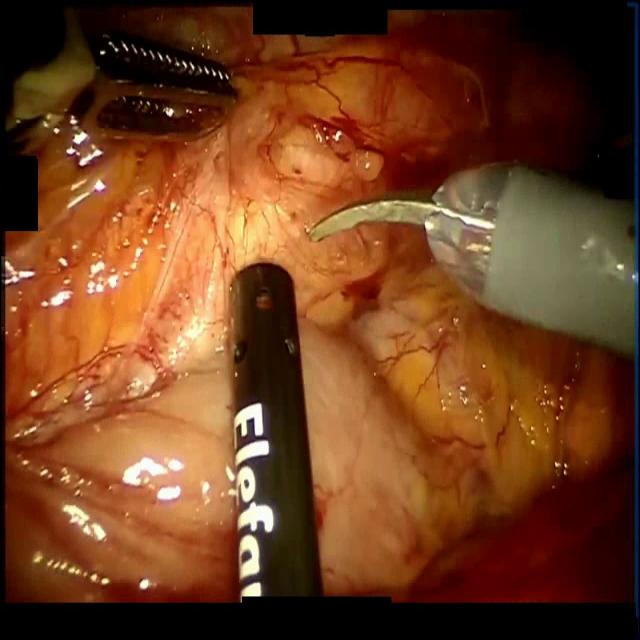surgical-area: (0, 0, 634, 603)
surgical-tool: (306, 161, 634, 358), (229, 260, 324, 601), (79, 0, 238, 125)
